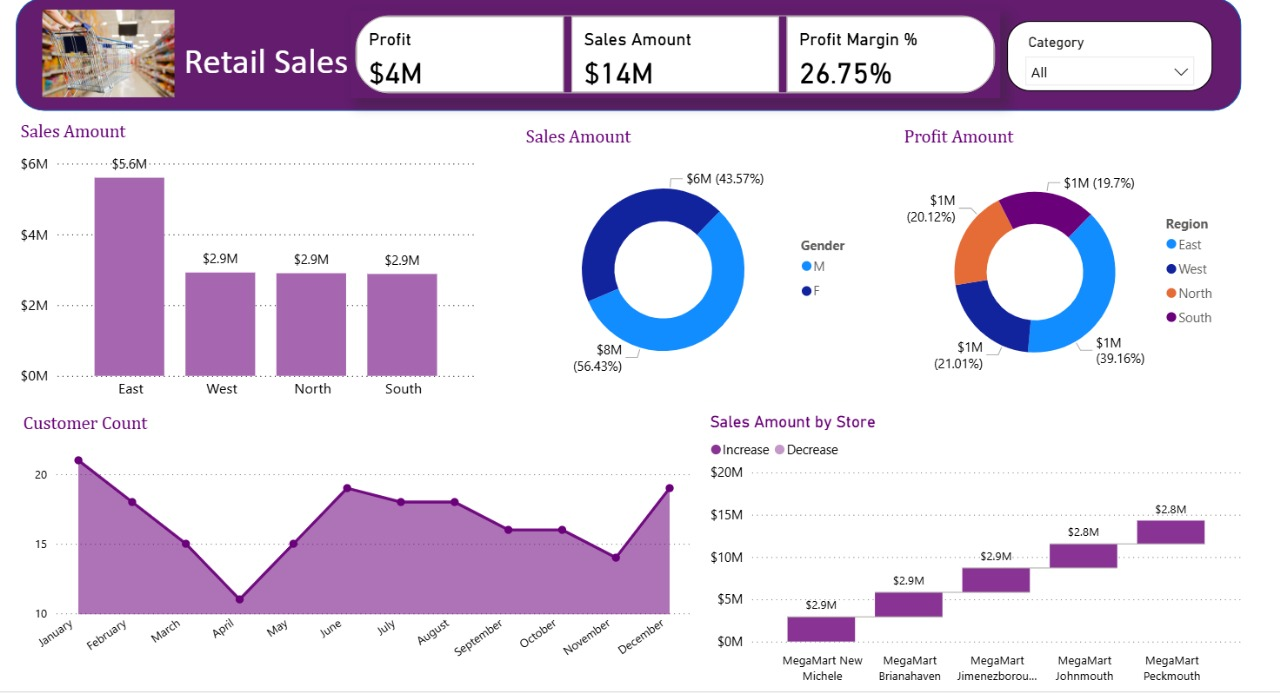

The dashboard page shown, as its layout file describes it:
{"tool":"powerbi","page":{"name":"Page 2","canvas":[1280,720],"ordinal":0},"visuals":[{"type":"shape","box":[4.9,0,1270.3,117.7],"z":0},{"type":"textbox","box":[174.1,20.4,188.7,76.8],"z":1000},{"type":"image","box":[27.2,3.9,146.9,109.9],"z":2000},{"type":"cardVisual","fields":{"Data":["Products.Profit","Products.Sales Amount","Products.Profit Margin %"]},"box":[351.1,13.6,673.1,91.4],"z":3000},{"type":"columnChart","title":"Sales Amount","fields":{"Category":["Stores.Region"],"Y":["Products.Sales Amount"]},"box":[4.9,127.4,482.4,299.6],"z":4000},{"type":"donutChart","title":"Sales Amount","fields":{"Category":["Customers.Gender"],"Y":["Products.Sales Amount"]},"box":[528.1,132.3,360.9,278.2],"z":5000},{"type":"slicer","fields":{"Values":["Products.Category"]},"box":[1032,24.3,213,73],"z":6000},{"type":"areaChart","title":"Customer Count","fields":{"Category":["Customers.JoinDate.Variation.Date Hierarchy.Month"],"Y":["Products.Customer Count"]},"box":[6.8,429.9,702.2,277.2],"z":7000},{"type":"waterfallChart","title":"Sales Amount by Store","fields":{"Category":["Stores.StoreName"],"Y":["Products.Sales Amount"]},"box":[718.8,429.9,561.2,289.9],"z":8000},{"type":"donutChart","title":"Profit Amount","fields":{"Y":["Products.Profit"],"Category":["Stores.Region"]},"box":[920.1,132.3,345.3,283],"z":8001}]}

Visuals, with their boxes on the page's 1280x720 design canvas (x1, y1, x2, y2). These are canvas units, not pixel positions in the 1280x693 screenshot, which may show the page scaled, cropped or inside an application window:
shape: box(5, 0, 1275, 118)
textbox: box(174, 20, 363, 97)
image: box(27, 4, 174, 114)
cardVisual - Products.Profit x Products.Sales Amount: box(351, 14, 1024, 105)
"Sales Amount" columnChart: box(5, 127, 487, 427)
"Sales Amount" donutChart: box(528, 132, 889, 410)
slicer - Products.Category: box(1032, 24, 1245, 97)
"Customer Count" areaChart: box(7, 430, 709, 707)
"Sales Amount by Store" waterfallChart: box(719, 430, 1280, 720)
"Profit Amount" donutChart: box(920, 132, 1265, 415)
